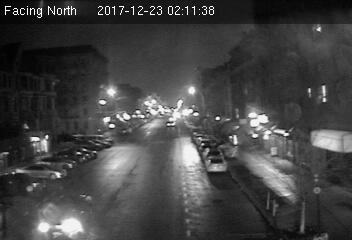car: (35, 191, 94, 239), (205, 155, 227, 172)
